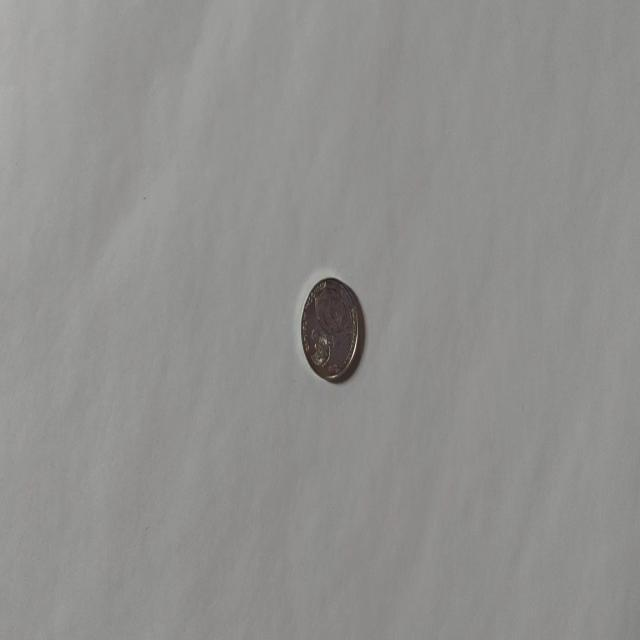dua ratus rupiah: (299, 276, 359, 382)
